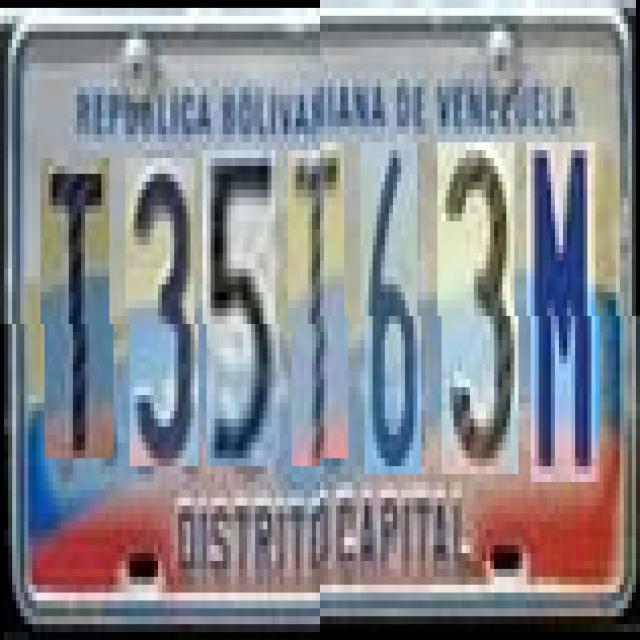3: (442, 150, 518, 482), (130, 158, 198, 466)
5: (207, 150, 280, 466)
6: (364, 150, 422, 482)
M: (530, 150, 600, 490)
T: (44, 158, 114, 458), (292, 150, 348, 466)
